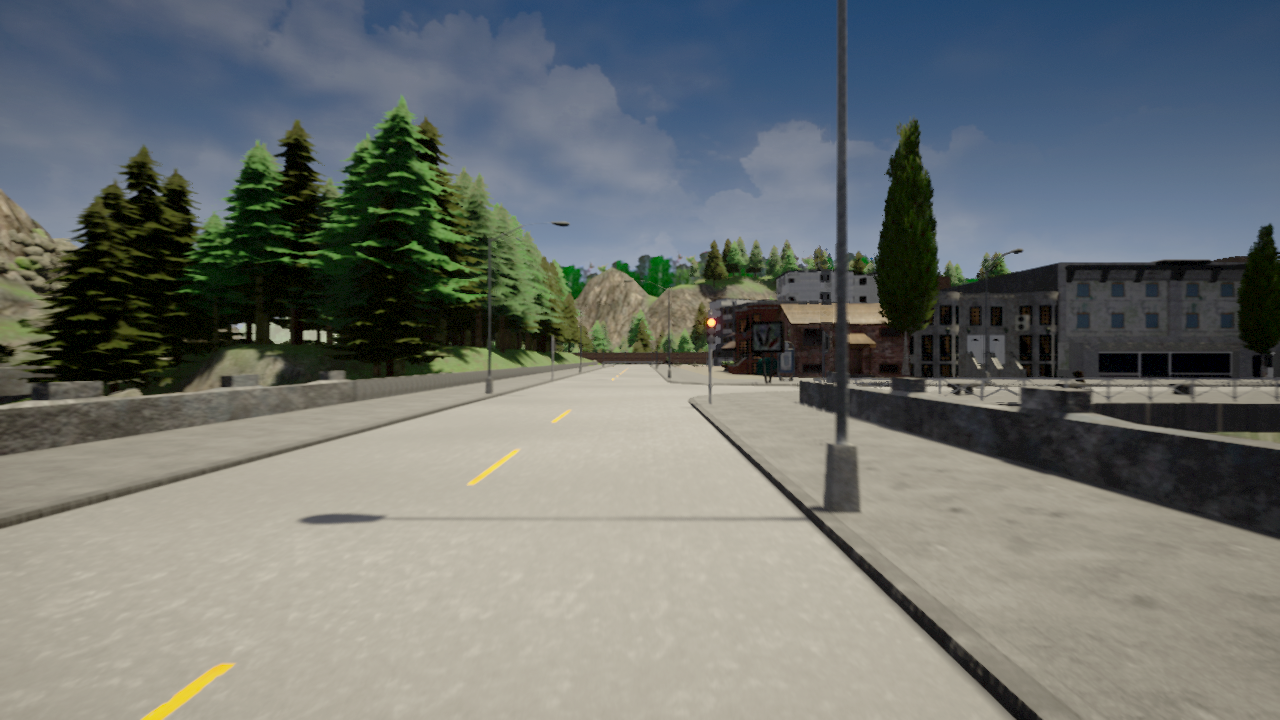red: (706, 317, 717, 345)
